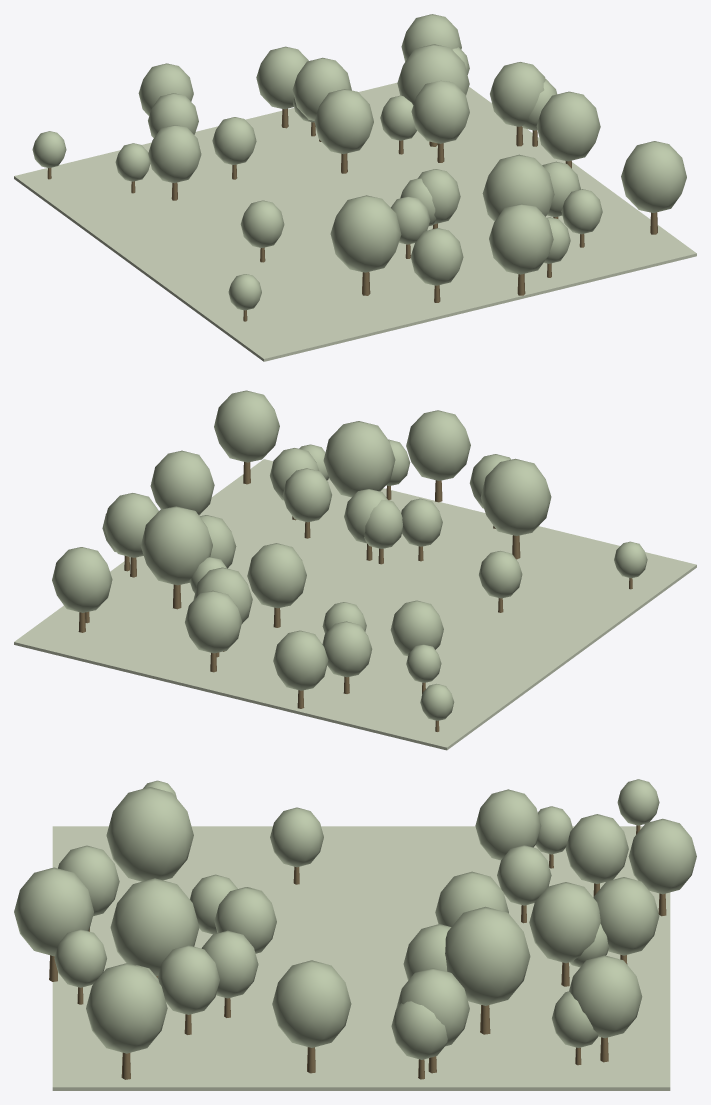
3 views of the same model, one above another, from view 1: azimuth 30°, elevation 25°; view 2: azimuth 150°, elevation 25°; view 3: azimuth 270°, elevation 25° (orthographic). The views are drawn at different scales.
Visible parts, largest first — view 1: terrain, lod-near-22, lod-near-30, lod-near-20, lod-near-1, lod-near-17, lod-near-27, lod-near-2, lod-near-28, lod-near-8, lod-near-31, lod-near-5 (+18 smaller); view 2: terrain, lod-near-8, lod-near-22, lod-near-17, lod-near-30, lod-near-20, lod-near-1, lod-near-13, lod-near-27, lod-near-25, lod-near-0, lod-near-28 (+16 smaller); view 3: terrain, lod-near-8, lod-near-22, lod-near-17, lod-near-30, lod-near-1, lod-near-20, lod-near-18, lod-near-13, lod-near-0, lod-near-25, lod-near-29 (+17 smaller).
Boxes of the visible parts, box(x1,y1,x2,y2) form: terrain: box(14, 82, 696, 361); lod-near-22: box(330, 195, 401, 272); lod-near-30: box(621, 141, 686, 212); lod-near-20: box(489, 204, 553, 274); lod-near-1: box(536, 91, 600, 161); lod-near-17: box(482, 154, 554, 221); lod-near-27: box(314, 89, 373, 154); lod-near-2: box(411, 80, 469, 143); lod-near-28: box(490, 62, 545, 126); lod-near-8: box(397, 44, 469, 104); lod-near-31: box(148, 125, 201, 183); lod-near-5: box(410, 228, 463, 285); terrain: box(14, 459, 696, 750); lod-near-8: box(140, 506, 212, 585); lod-near-22: box(480, 458, 551, 535); lod-near-17: box(323, 421, 395, 497); lod-near-30: box(214, 390, 279, 462); lod-near-20: box(406, 410, 470, 480); lod-near-1: box(150, 450, 214, 515); lod-near-13: box(52, 547, 112, 612); lod-near-27: box(247, 543, 306, 608); lod-near-25: box(185, 590, 242, 653); lod-near-0: box(273, 630, 328, 690); lod-near-28: box(103, 493, 158, 557); terrain: box(52, 826, 670, 1090); lod-near-8: box(445, 906, 530, 1005); lod-near-22: box(106, 787, 193, 881); lod-near-17: box(110, 878, 199, 976); lod-near-30: box(86, 963, 167, 1053); lod-near-1: box(272, 960, 351, 1047); lod-near-20: box(14, 867, 93, 956); lod-near-18: box(529, 882, 600, 963); lod-near-13: box(569, 955, 642, 1038); lod-near-0: box(628, 818, 696, 894); lod-near-25: box(593, 877, 659, 955); lod-near-29: box(565, 814, 628, 883).
Size of the model in its own units: 33.16 by 7.32 by 35.38.
